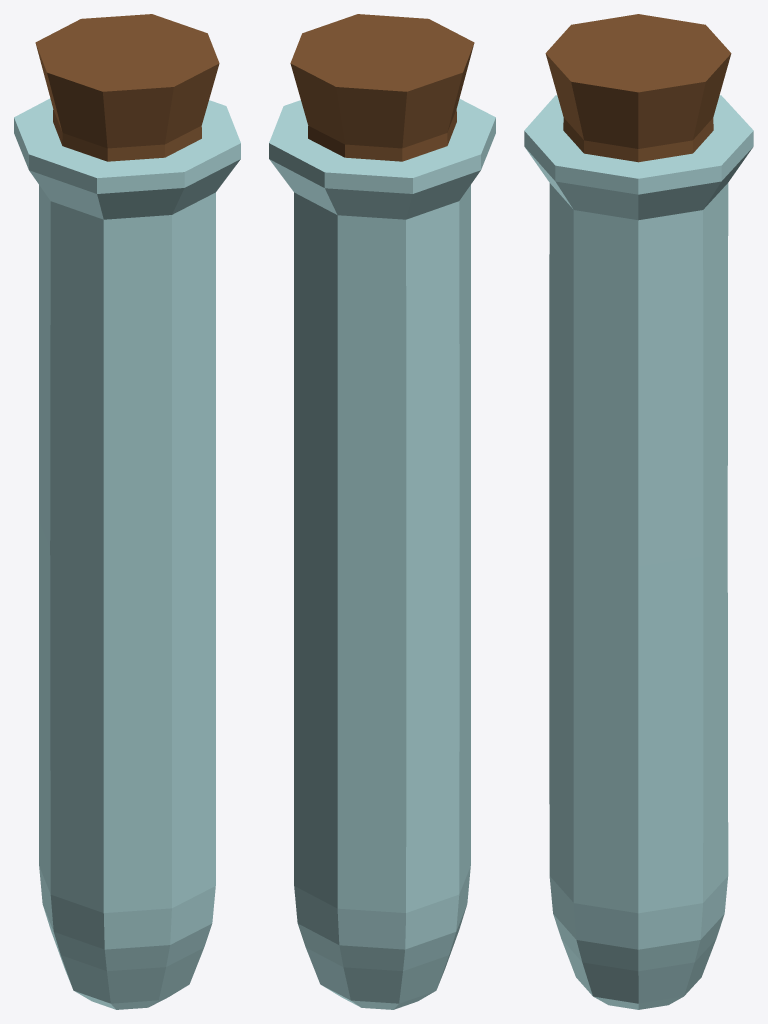
Rendered from HealthPotion.glb.
3 views of the same model, side by side, from view 1: azimuth 30°, elevation 25°; view 2: azimuth 150°, elevation 25°; view 3: azimuth 270°, elevation 25° (orthographic).
Parts seen in each view (by area): view 1: Vial, Stopper; view 2: Vial, Stopper; view 3: Vial, Stopper.
Part boxes in pixels (bbox=[...]): Vial: bbox=[14, 98, 240, 1009]; Stopper: bbox=[35, 14, 219, 161]; Vial: bbox=[269, 98, 495, 1009]; Stopper: bbox=[290, 14, 474, 161]; Vial: bbox=[524, 95, 753, 1009]; Stopper: bbox=[545, 14, 731, 162].
Size of the model in its own units: 2.14 by 9.75 by 2.16.
